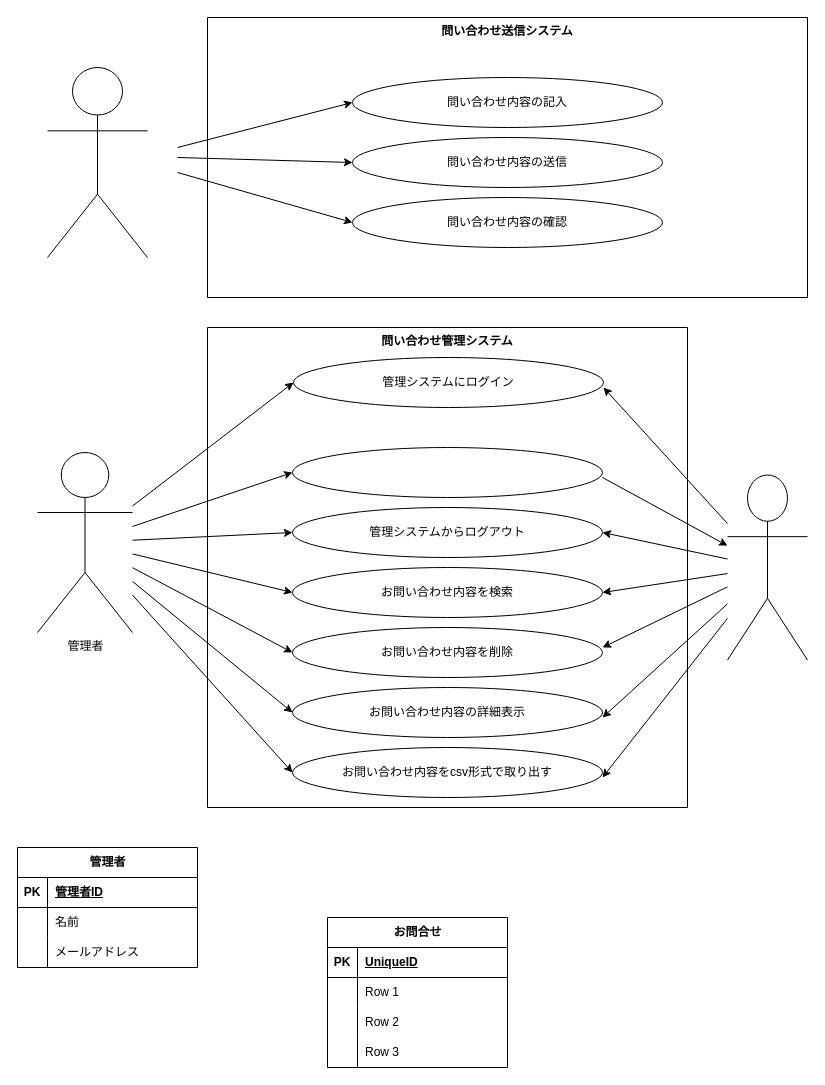
This 825x1085 diagram has some shape labels left out. Here are the shapes that lost their labels. From the top down, the centre of each, then its label:
point (97, 162): 利用者
point (447, 472): 新規ユーザーの作成・登録
point (767, 567): 新規管理者
